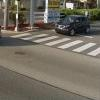Crosswalk: (10, 26, 99, 64)
